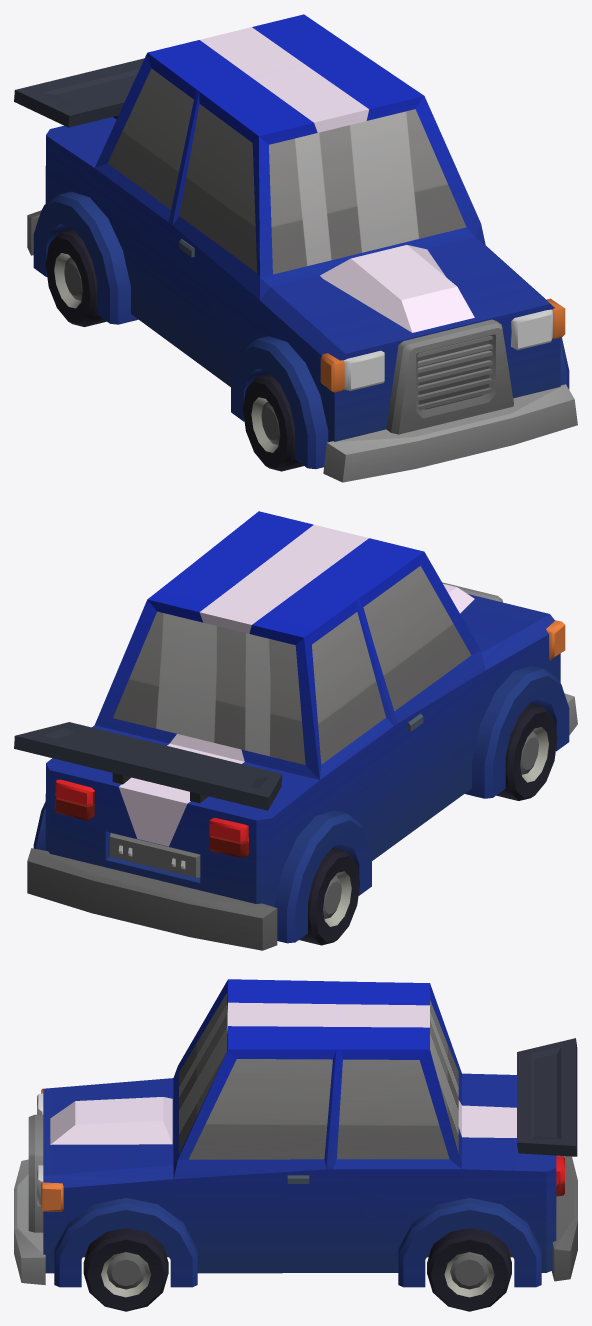
The model's file is SportCar_6.glb.
3 renders of one model, top to bottom at view 1: azimuth 30°, elevation 25°; view 2: azimuth 150°, elevation 25°; view 3: azimuth 270°, elevation 25°, orthographic. The views are drawn at different scales.
Parts seen in each view (by area): view 1: SportCar_6, Wheel_fr, Wheel_br; view 2: SportCar_6, Wheel_br, Wheel_fr; view 3: SportCar_6, Wheel_fl, Wheel_bl.
Boxes of the visible parts, left/top/right/bottom form: SportCar_6: left=14, top=14, right=577, bottom=482; Wheel_fr: left=243, top=373, right=303, bottom=471; Wheel_br: left=45, top=229, right=106, bottom=326; SportCar_6: left=14, top=511, right=577, bottom=950; Wheel_br: left=299, top=847, right=360, bottom=945; Wheel_fr: left=496, top=703, right=557, bottom=800; SportCar_6: left=14, top=979, right=577, bottom=1287; Wheel_fl: left=83, top=1228, right=168, bottom=1311; Wheel_bl: left=427, top=1228, right=511, bottom=1311.
Size of the model in its own units: 1.12 by 1.1 by 2.33.
Materials: 7 (7 with a texture image).
